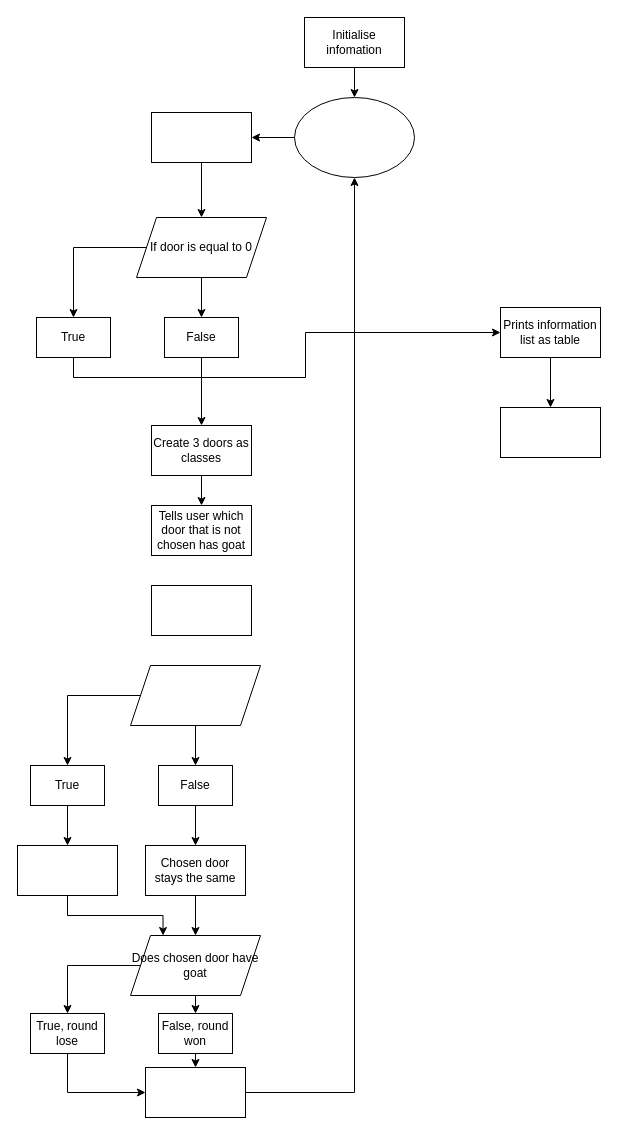
Image size: 618x1135. Some labels were removed from this diagram. The shapes that lost their labels are listed below. From the top down, each one's centre as x and y in pixels, then its label:
point 201,137: User chose a door
point 354,137: While loop until user wants to exit
point 550,432: Finished
point 201,610: User decides weather to switch doors or not
point 195,695: Did user switch
point 67,870: Chosen door equals other door
point 195,1092: adds information to list
